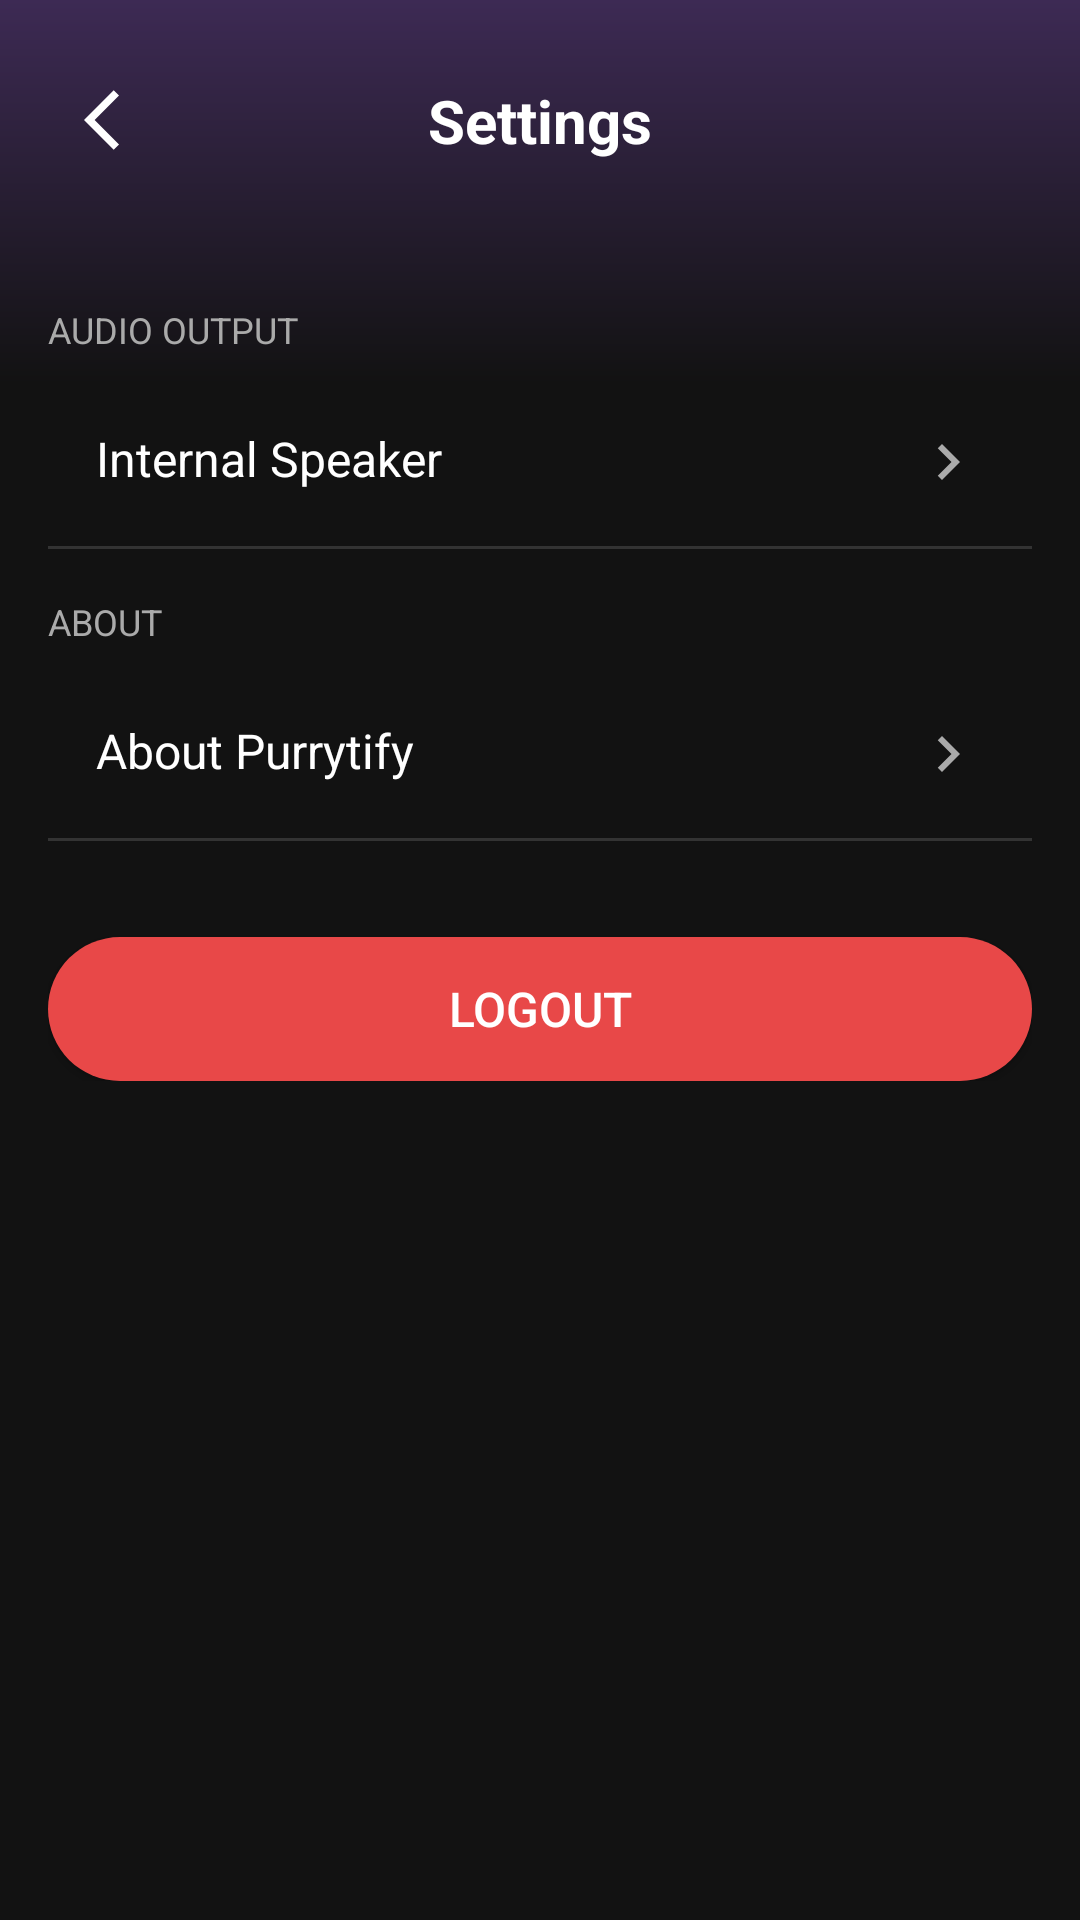

Locate icon controls on the screen. Image size 1080 × 1920, boxes as bbox(x1, y1, x2, y2).
chevron right: bbox(938, 444, 960, 480), bbox(938, 736, 960, 772)
